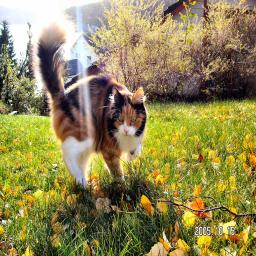catnose: (122, 126, 130, 134)
